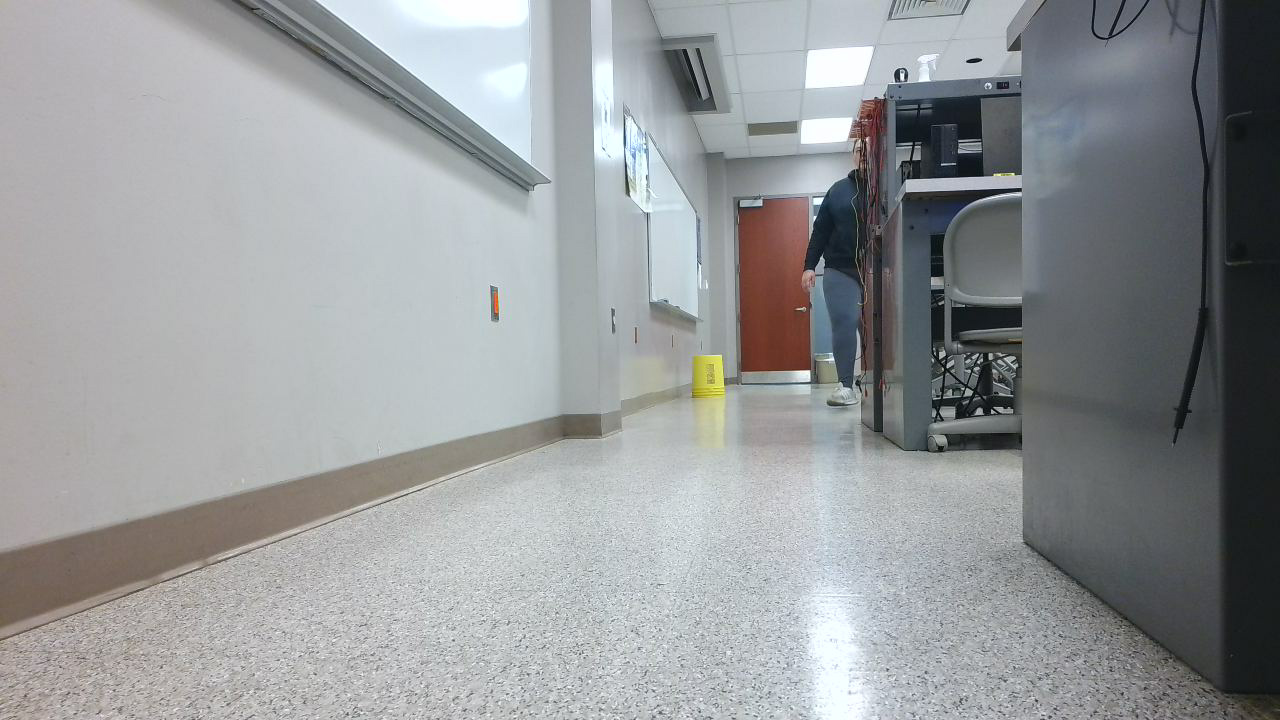yellow_bucket: (693, 357, 734, 408)
